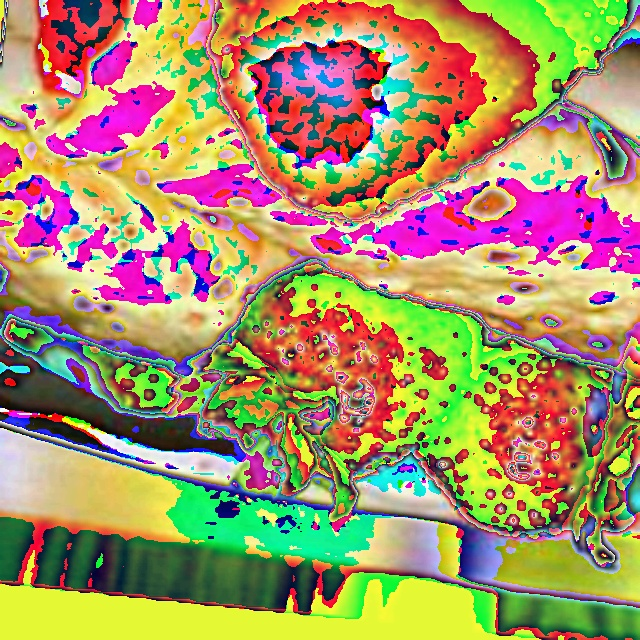background: (0, 0, 640, 575)
